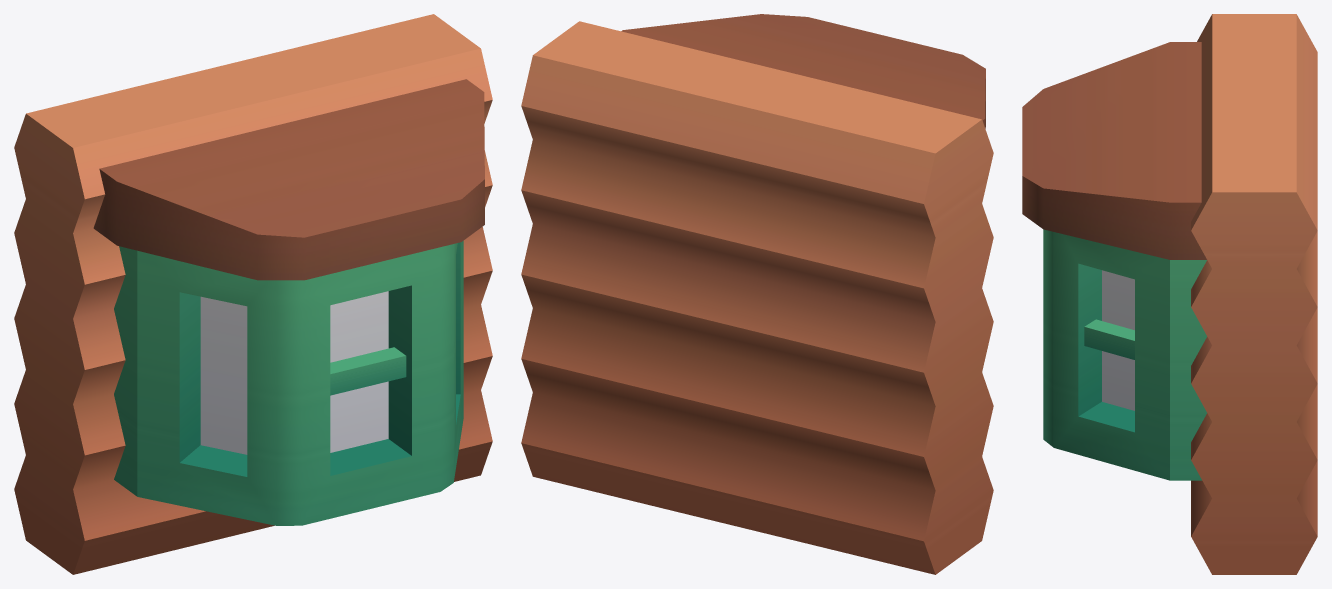
File: kenney-holiday-cabin-window-large.glb
3 views of the same model, side by side, from view 1: azimuth 30°, elevation 25°; view 2: azimuth 150°, elevation 25°; view 3: azimuth 270°, elevation 25° (orthographic). The views are drawn at different scales.
Visible parts, largest first — view 1: cabin-window-large; view 2: cabin-window-large; view 3: cabin-window-large.
Boxes of the visible parts, x1,y1,x2,y2 form: cabin-window-large: [14, 14, 492, 574]; cabin-window-large: [521, 14, 993, 574]; cabin-window-large: [1022, 14, 1317, 574].
Bounding box in the file's own units: 1 × 1 × 0.7.
Materials: 1 (1 with a texture image).
